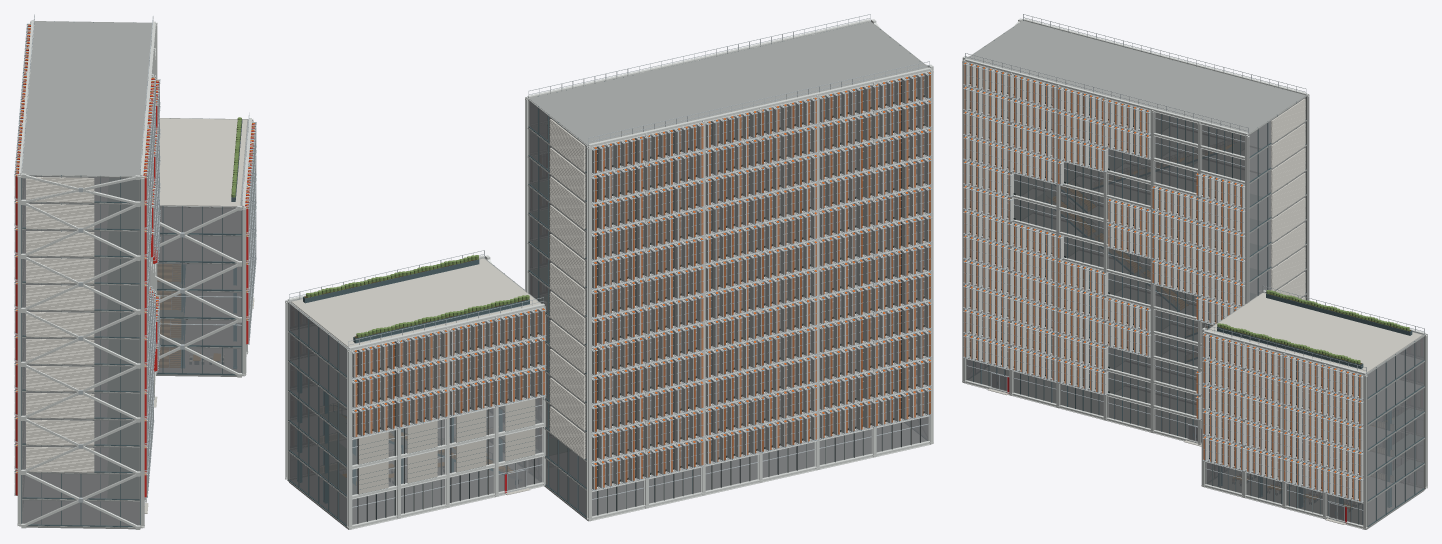
The model's file is cbg-exterior-b20324ff078d.glb.
The picture shows the model from 3 angles, left to right: view 1: azimuth 30°, elevation 25°; view 2: azimuth 150°, elevation 25°; view 3: azimuth 270°, elevation 25°; orthographic projection. The views are drawn at different scales.
Parts seen in each view (by area): view 1: CBG.001; view 2: CBG.001; view 3: CBG.001.
Boxes of the visible parts, x1,y1,x2,y2 form: CBG.001: (14, 14, 256, 529); CBG.001: (285, 14, 933, 529); CBG.001: (962, 14, 1427, 529).
Size of the model in its own units: 66.1 by 53.56 by 68.49.
